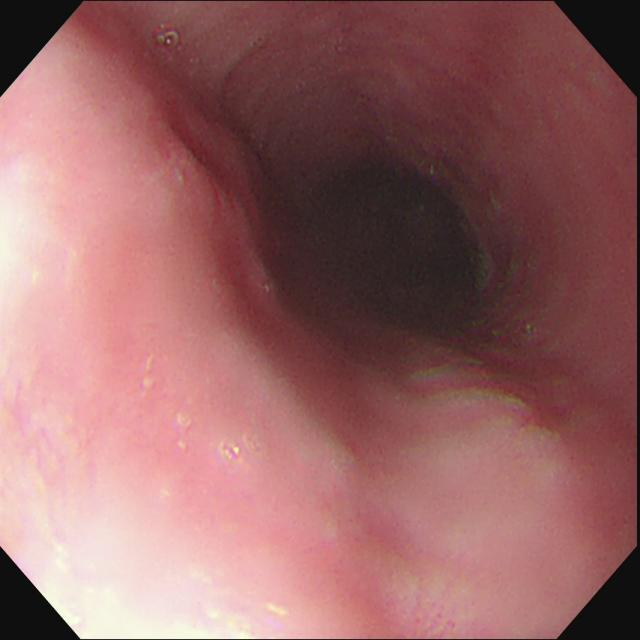E: (330, 173, 474, 306)
